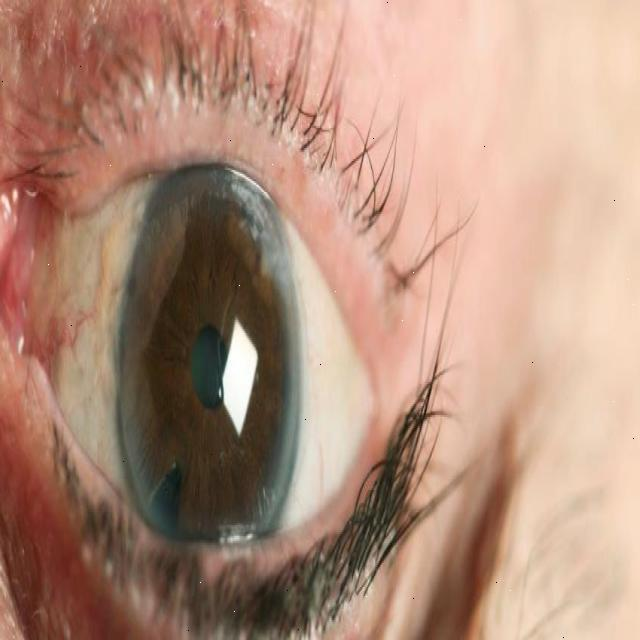Normal: (116, 141, 302, 608)
